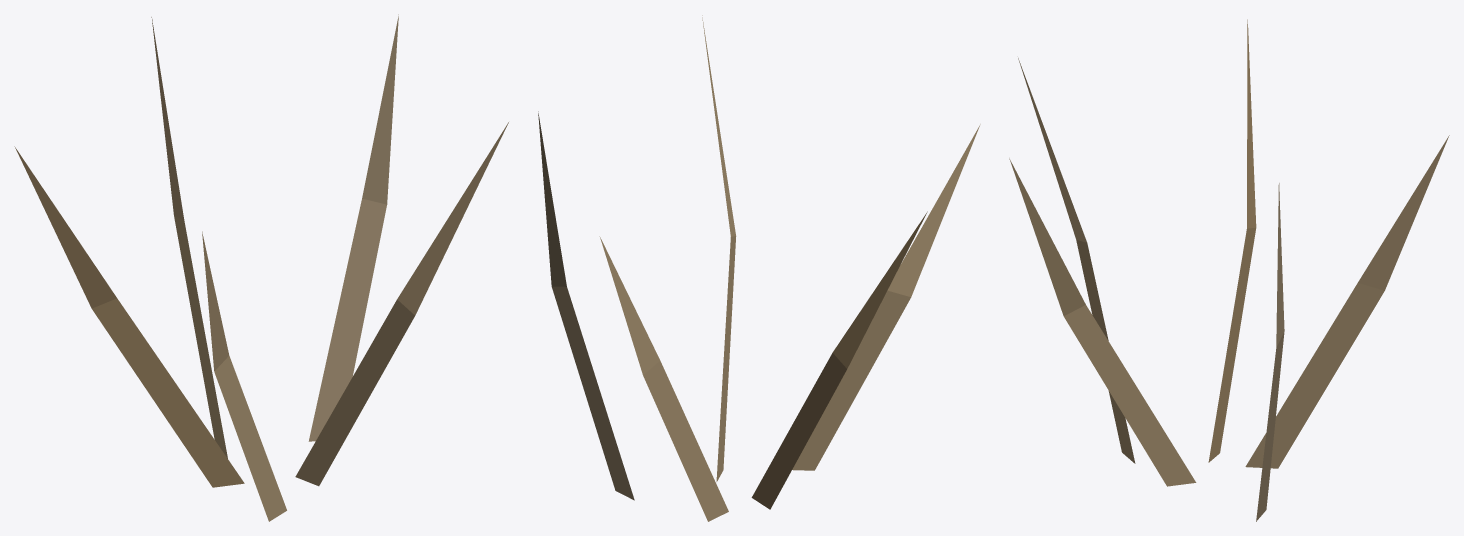
The model's file is Dead_Bush_b_01.fbx.
3 renders of one model, left to right at view 1: azimuth 30°, elevation 25°; view 2: azimuth 150°, elevation 25°; view 3: azimuth 270°, elevation 25°, orthographic. The views are drawn at different scales.
Visible parts, largest first — view 1: Dead_Bush_b_01; view 2: Dead_Bush_b_01; view 3: Dead_Bush_b_01.
Boxes of the visible parts, x1=… form: Dead_Bush_b_01: x1=14, y1=14, x2=508, y2=521; Dead_Bush_b_01: x1=538, y1=15, x2=980, y2=521; Dead_Bush_b_01: x1=1009, y1=19, x2=1449, y2=521.
Size of the model in its own units: 0.4731 by 0.4568 by 0.4777.
